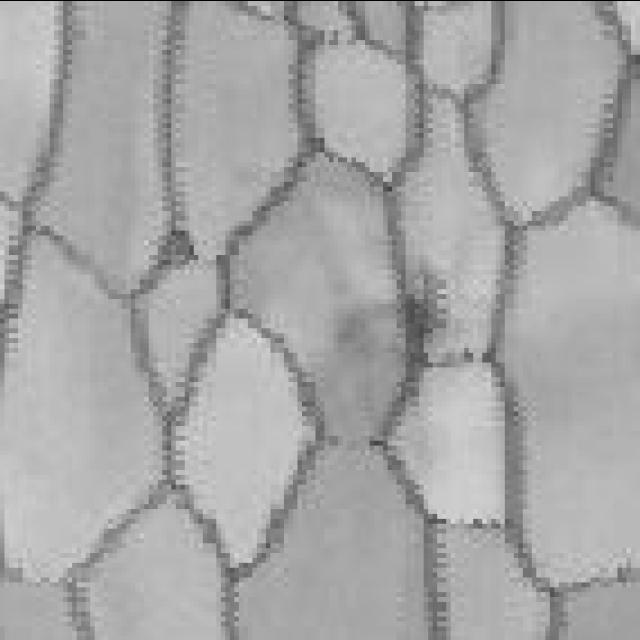good_void: (334, 279, 456, 459)
